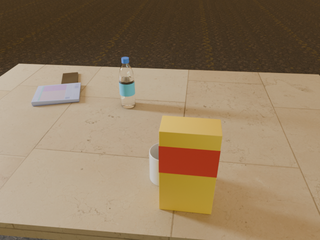book: (31, 83, 81, 106)
bottle: (119, 57, 135, 108)
box: (158, 116, 222, 214)
cup: (149, 143, 159, 186)
phone: (61, 72, 78, 84)
